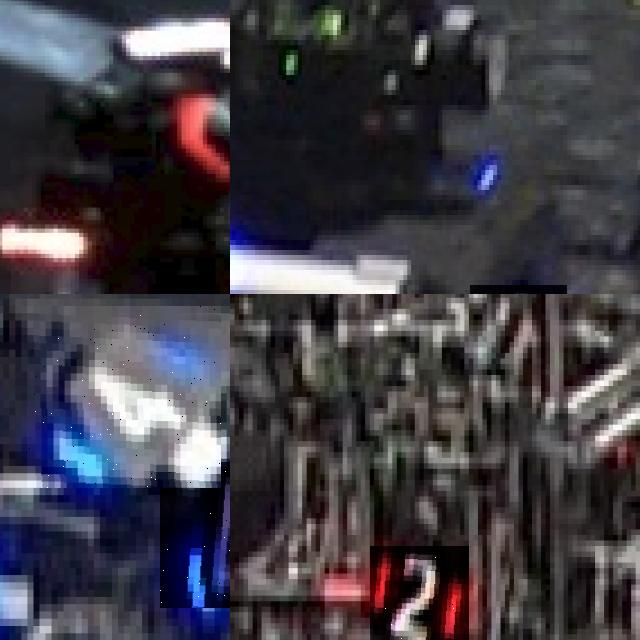B4: (27, 306, 221, 488), (160, 462, 230, 607)
R2: (370, 545, 469, 640)
